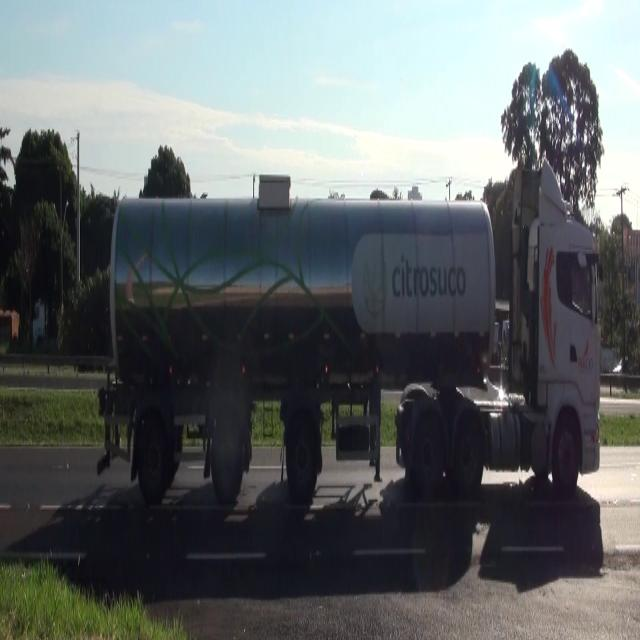-axle: (211, 392, 246, 507), (448, 400, 488, 492), (409, 396, 443, 501), (285, 405, 322, 501), (136, 394, 172, 492), (552, 402, 586, 502)
